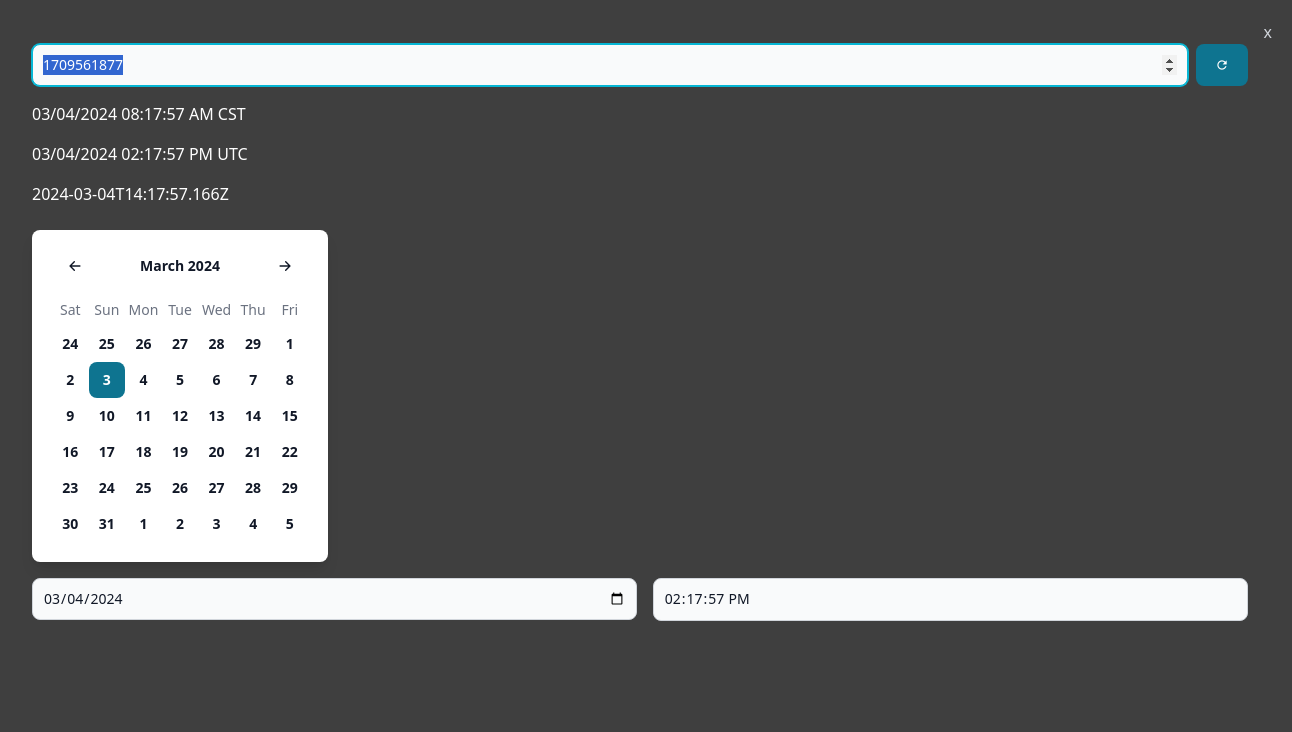
App Component › date updates to current date when refresh clicked
Replace the text in the number field with test id "unix-input" with "1707005834" at (610, 65), box [32,44,1188,86]
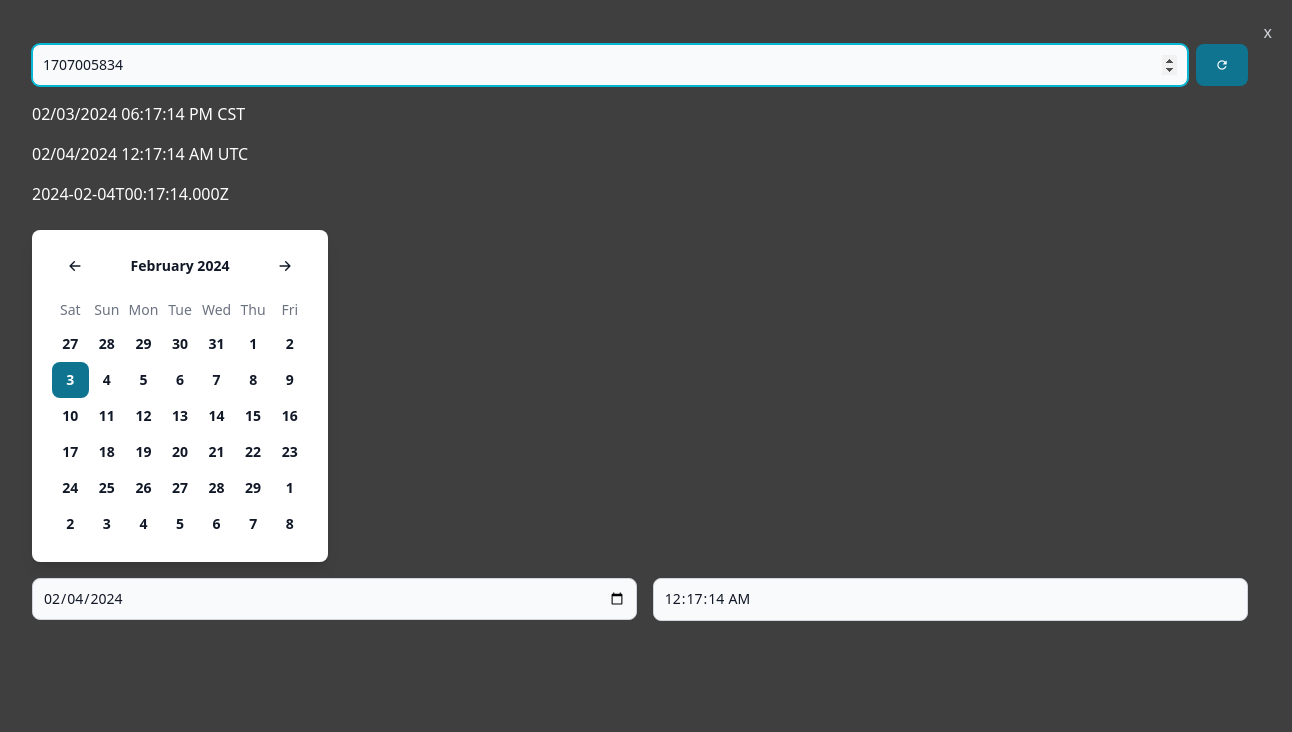
Click the button with test id "refresh-button" at (1222, 65), box [1196,44,1248,86]
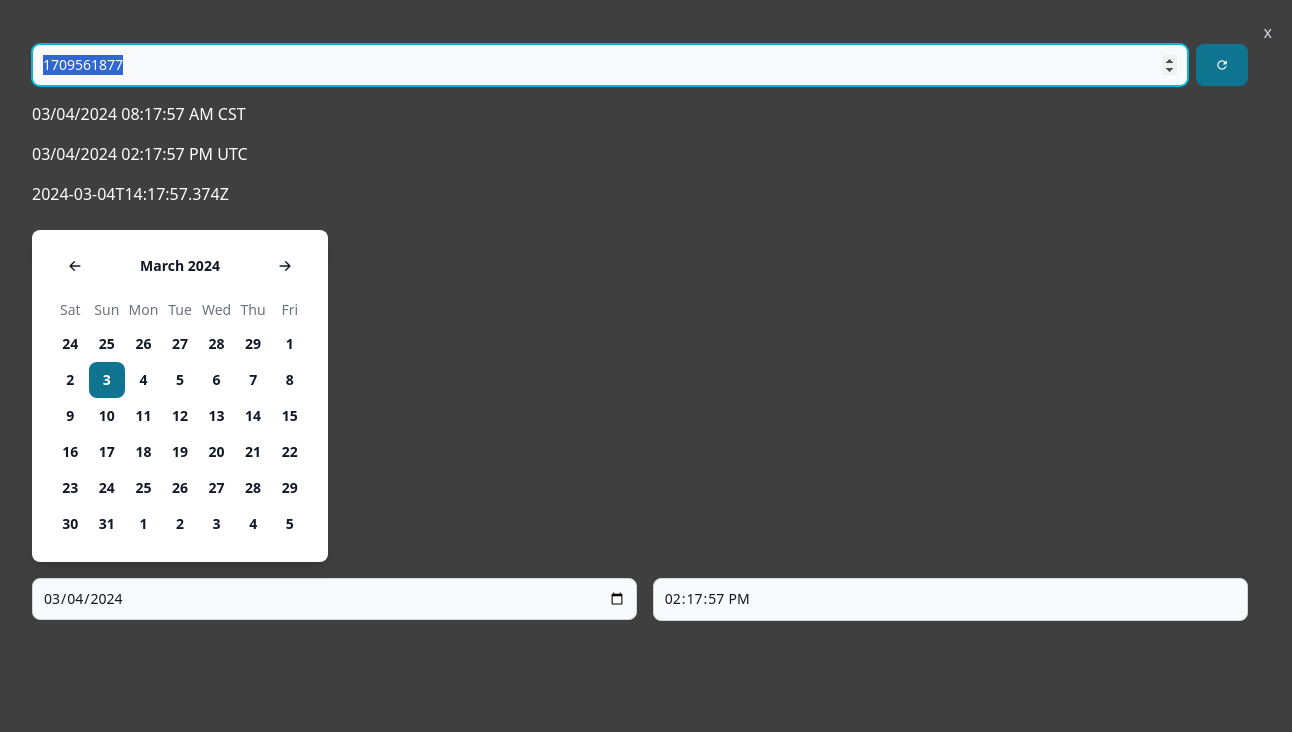
Expected: the number field with test id "unix-input" holds "1709561877", [32,44,1188,86]
